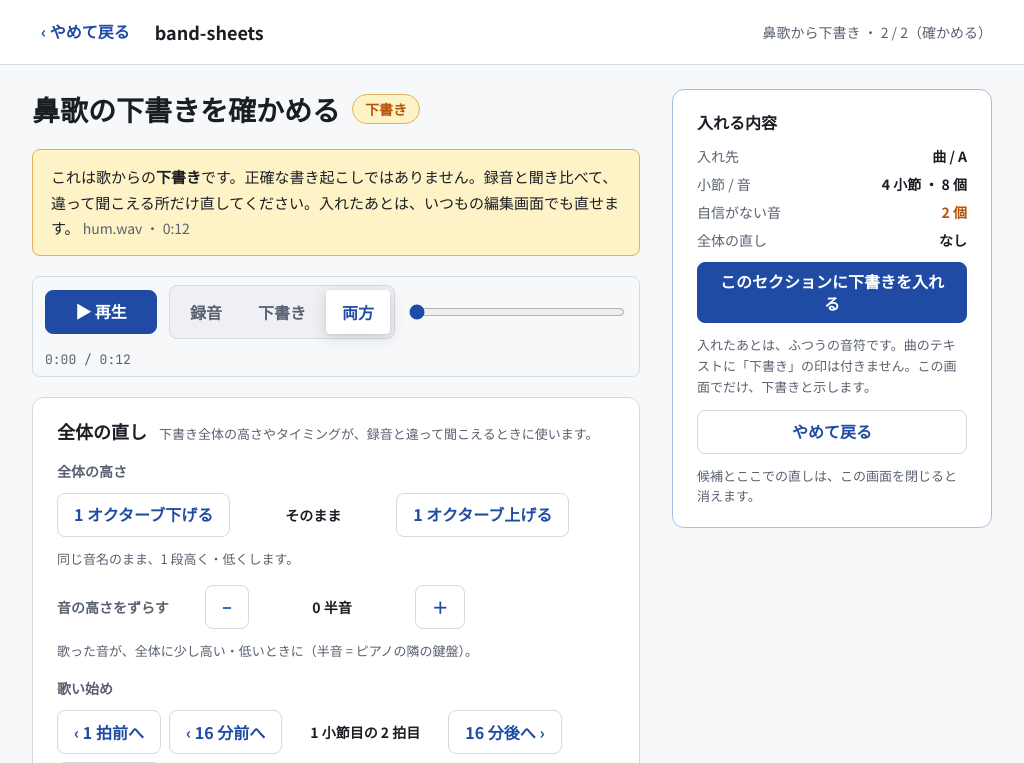
HumReview fixes (characterization) › transpose: signed semitones in the summary, none at 0
Click the button named "半音上げる". click: (440,607)
box: [415,585,465,629]
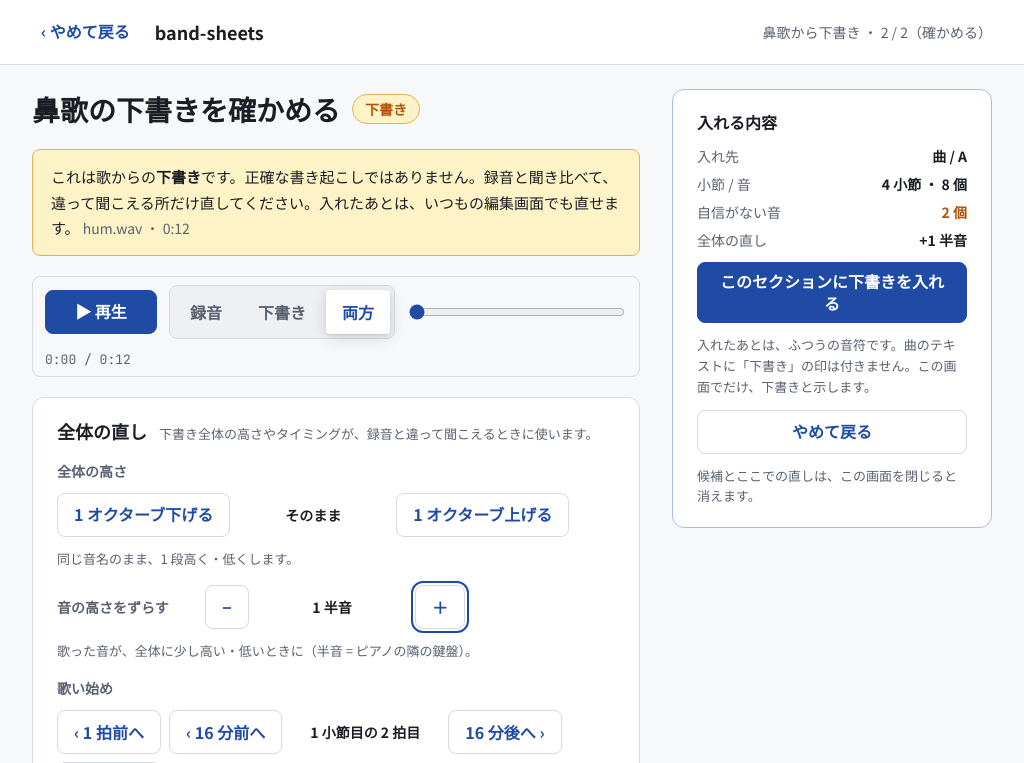
expect the text with test id "hum-fixes" reads "+1 半音": met, box [919,230,967,250]
Click the button named "半音下げる". click: (227,607)
box: [205,585,249,629]
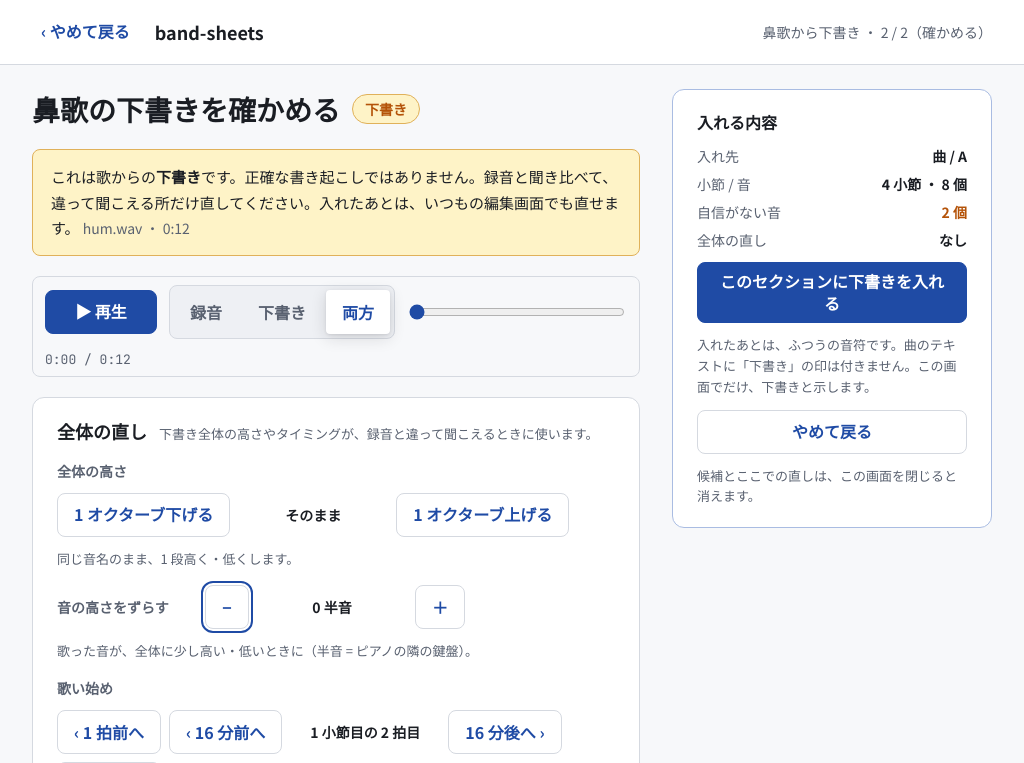
Click the button named "半音下げる". click: (227,607)
box: [205,585,249,629]
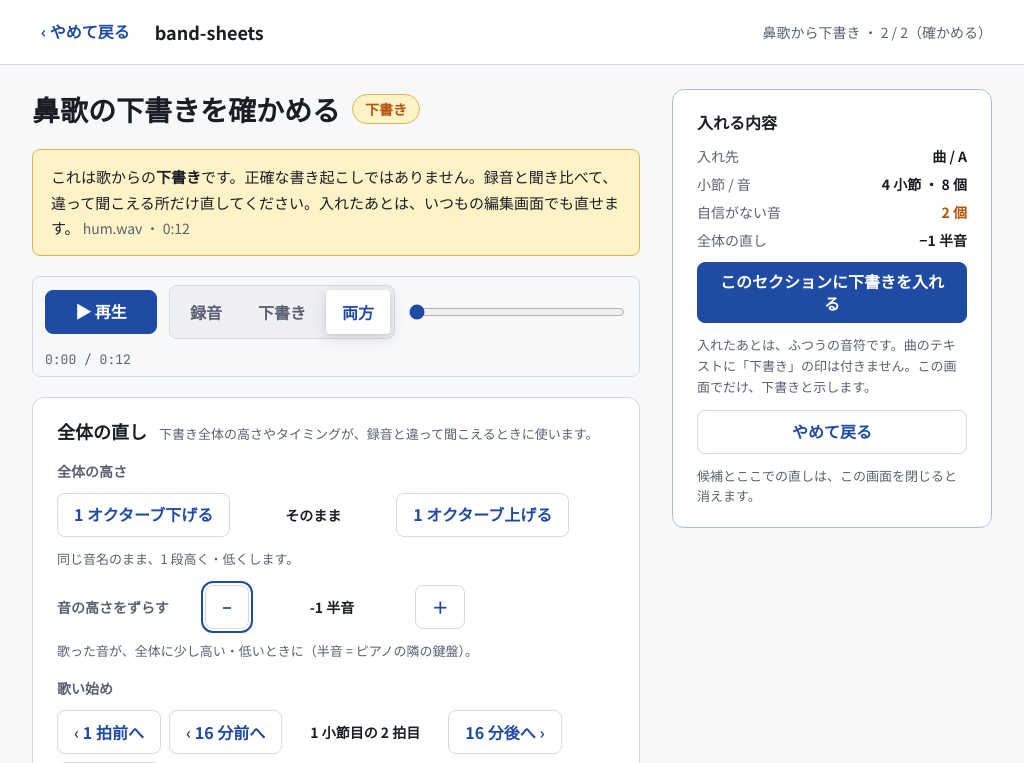
expect the text with test id "hum-fixes" reads "−1 半音": met, box [919,230,967,250]
expect the text with test id "hum-transpose" reads "-1 半音": met, box [310,597,354,617]
